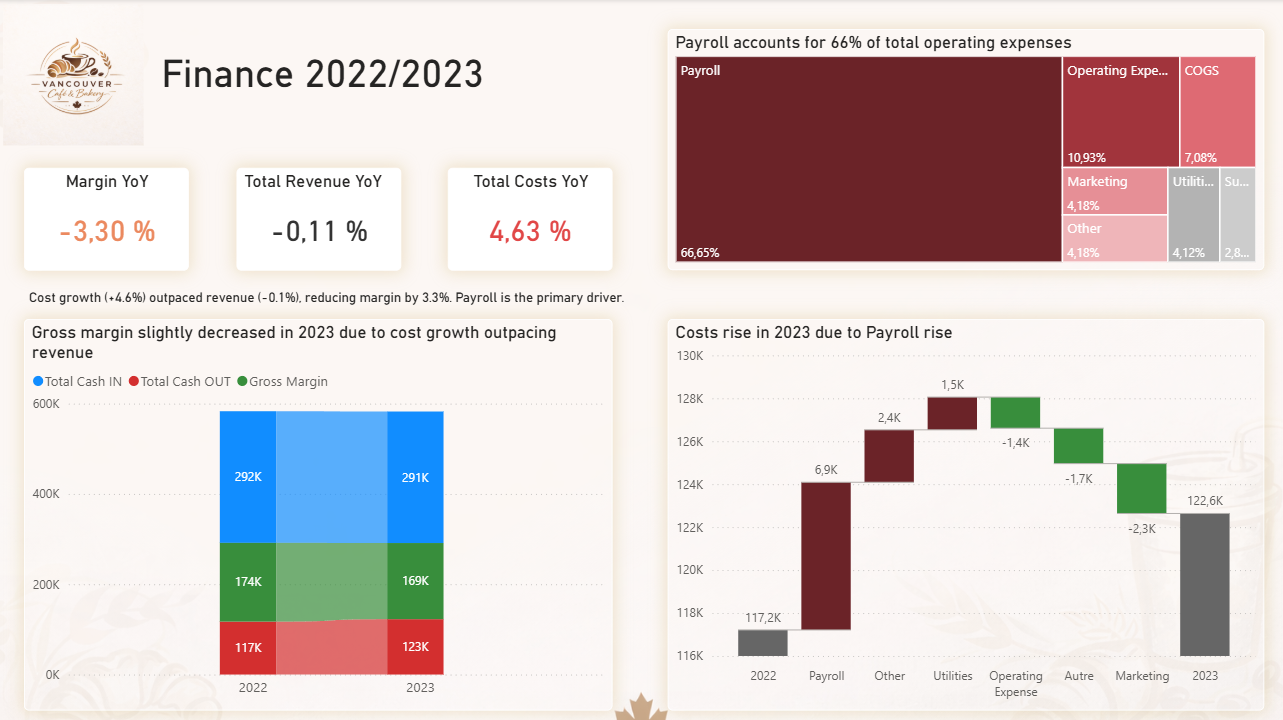

The page's visual inventory and layout, read from the dashboard file:
{"tool":"powerbi","page":{"name":"Finance","canvas":[1280,720],"ordinal":1},"visuals":[{"type":"image","box":[0,0,1280,720.3],"z":0},{"type":"ribbonChart","title":"Gross margin slightly decreased in 2023 due to cost growth outpacing revenue","fields":{"Category":["dim_time.year"],"Y":["_mesures._Total_amount_IN","_mesures._Total_amount_OUT","_mesures._Marge_Brut"]},"box":[24.9,318.5,585.9,389.4],"z":1000},{"type":"treemap","title":"Payroll accounts for 66% of total operating expenses","fields":{"Values":["_mesures.amount_OUT"],"Group":["dim_category.category Hiérarchie.category","dim_category.category Hiérarchie.category_flux","dim_category.category Hiérarchie.type_flux"]},"box":[665.5,29.9,593.4,240.1],"z":2000},{"type":"textbox","box":[156.7,47.3,348.3,56],"z":3000},{"type":"card","title":"Margin YoY","fields":{"Values":["_mesures._variationIN_OUT"]},"box":[24.9,167.9,164.2,102],"z":4000},{"type":"card","title":"Total Revenue YoY","fields":{"Values":["_mesures._totalAmountInYoY %"]},"box":[236.4,167.9,164.2,102],"z":5000},{"type":"card","title":"Total Costs YoY","fields":{"Values":["_mesures._totalAmountOutYoY %"]},"box":[446.6,167.9,164.2,102],"z":6000},{"type":"waterfallChart","title":"Costs rise in 2023 due to Payroll rise","fields":{"Category":["dim_time.date_yyyy_mm_dd.Variation.Hiérarchie de dates.Année"],"Y":["_mesures._Total_amount_OUT"],"Breakdown":["dim_category.category Hiérarchie.category"]},"box":[665.5,318.5,593.4,389.4],"z":7000},{"type":"textbox","box":[24.9,282.4,615.8,36.1],"z":8000},{"type":"image","box":[0,5,148,140.6],"z":9000}]}

Visuals, with their boxes in screenshot pixels (x1, y1, x2, y2), scaled from the page's 1280x720 canvas onto the 1283x720 screenshot:
image: [left=0, top=0, right=1282, bottom=719]
"Gross margin slightly decreased in 2023 due to cost growth outpacing revenue" ribbonChart: [left=25, top=318, right=612, bottom=708]
"Payroll accounts for 66% of total operating expenses" treemap: [left=667, top=30, right=1262, bottom=270]
textbox: [left=157, top=47, right=506, bottom=103]
"Margin YoY" card: [left=25, top=168, right=190, bottom=270]
"Total Revenue YoY" card: [left=237, top=168, right=402, bottom=270]
"Total Costs YoY" card: [left=448, top=168, right=612, bottom=270]
"Costs rise in 2023 due to Payroll rise" waterfallChart: [left=667, top=318, right=1262, bottom=708]
textbox: [left=25, top=282, right=642, bottom=318]
image: [left=0, top=5, right=148, bottom=146]
